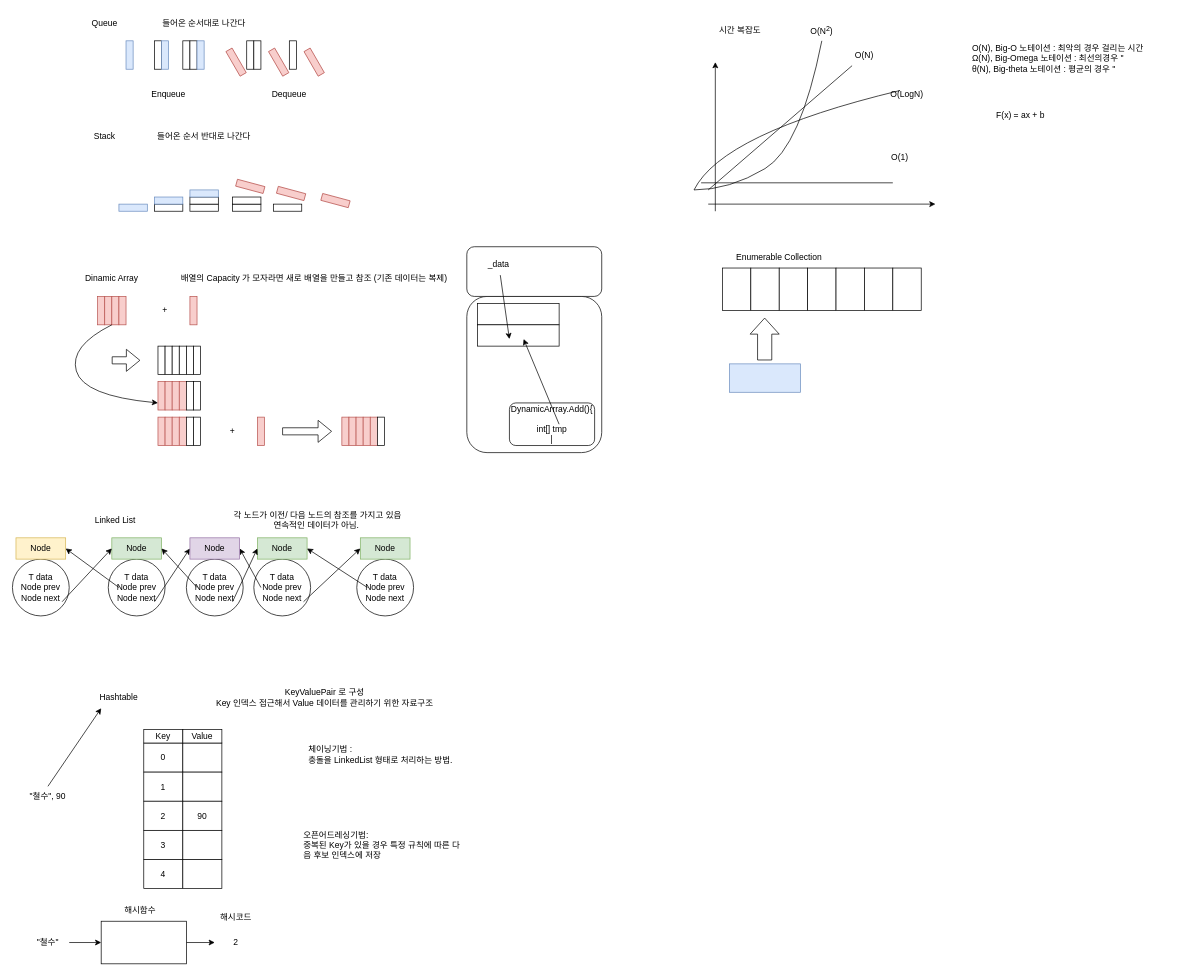
The diagram is 1196 pixels wide and 976 high, and some of its shapes have lost their labels. Each missing label, with the centre of its shape:
"array[Capacity * 2]" belongs at point (518, 335).
"array[Capacity]" belongs at point (518, 314).
"Enumerator" belongs at point (765, 377).
"F(?)" belongs at point (143, 942).
